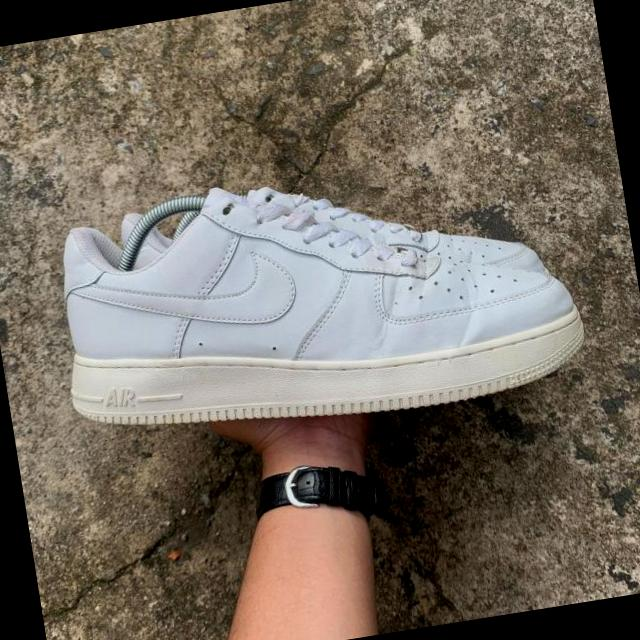nike_fake_airforce: (40, 131, 594, 459)
